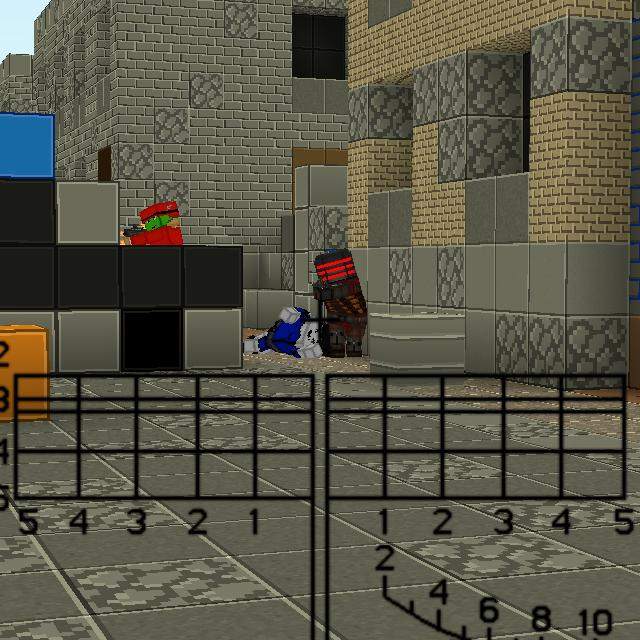enemy: (311, 246, 370, 360), (121, 200, 186, 246)
